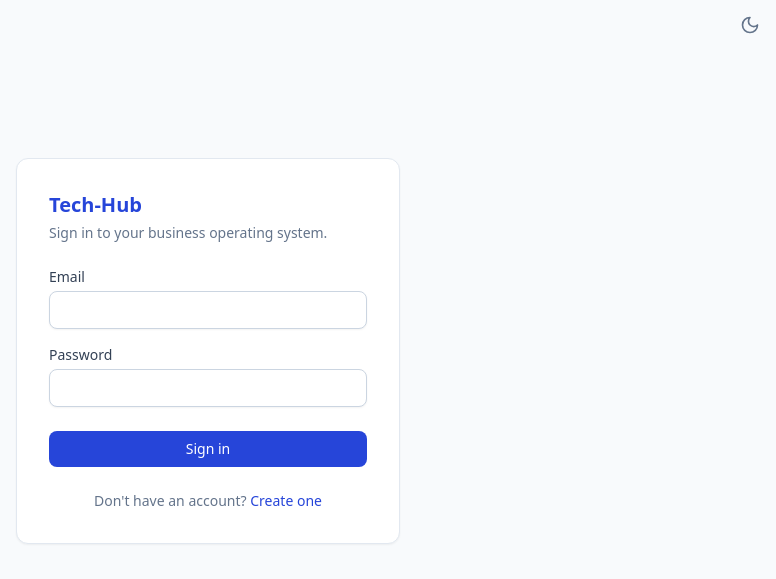
LoginPage › shows an error message when login fails
This screenshot has width=776, height=579.
In the field labelled "Email": x=208, y=310 left=49, top=291, right=367, bottom=329, type "ada@example.com"
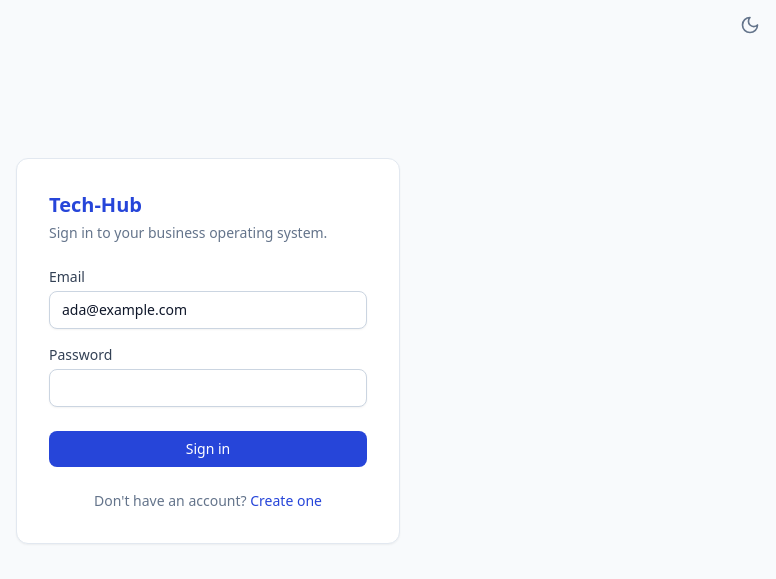
In the password field labelled "Password": x=208, y=388 left=49, top=369, right=367, bottom=407, type "wrong-password"
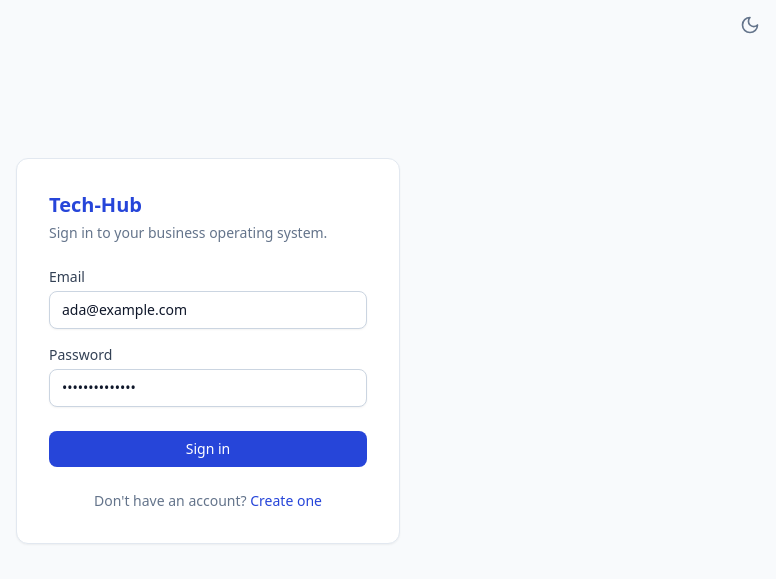
Click the button "Sign in": x=208, y=449 left=49, top=431, right=367, bottom=467
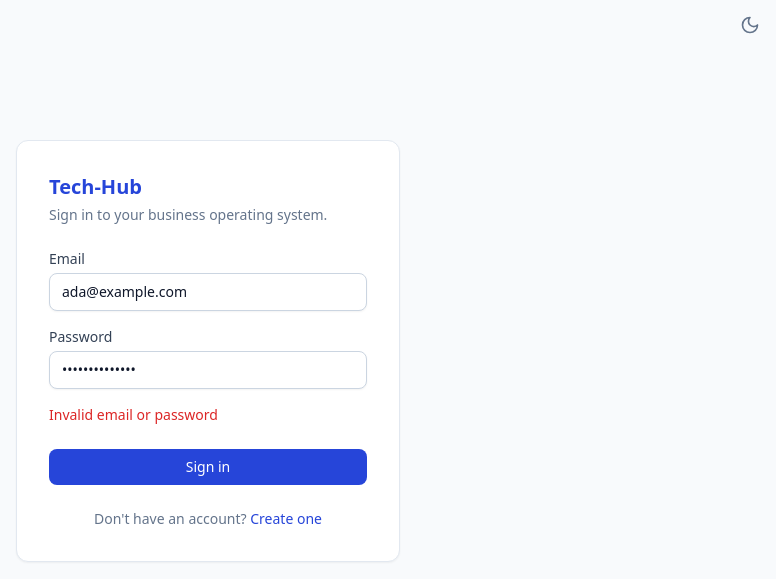
expect the text "Invalid email or password" is shown: met, box left=49, top=405, right=218, bottom=424
